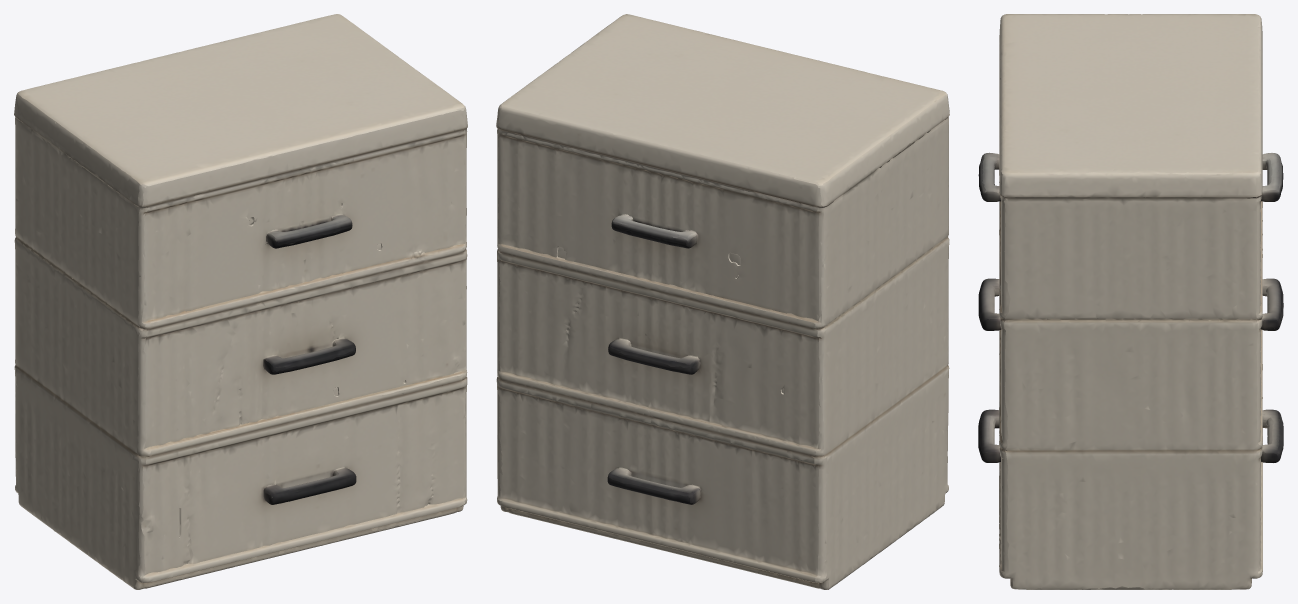
File: item_e3030319.glb
3 views of the same model, side by side, from view 1: azimuth 30°, elevation 25°; view 2: azimuth 150°, elevation 25°; view 3: azimuth 270°, elevation 25° (orthographic).
Parts seen in each view (by area): view 1: world; view 2: world; view 3: world.
Part boxes in pixels (x1,y1,x2,y2): world: (14,14,467,589); world: (496,14,949,589); world: (978,14,1283,589).
Size of the model in its own units: 0.7165 by 0.85 by 0.5647.
Materials: 1 (1 with a texture image).
